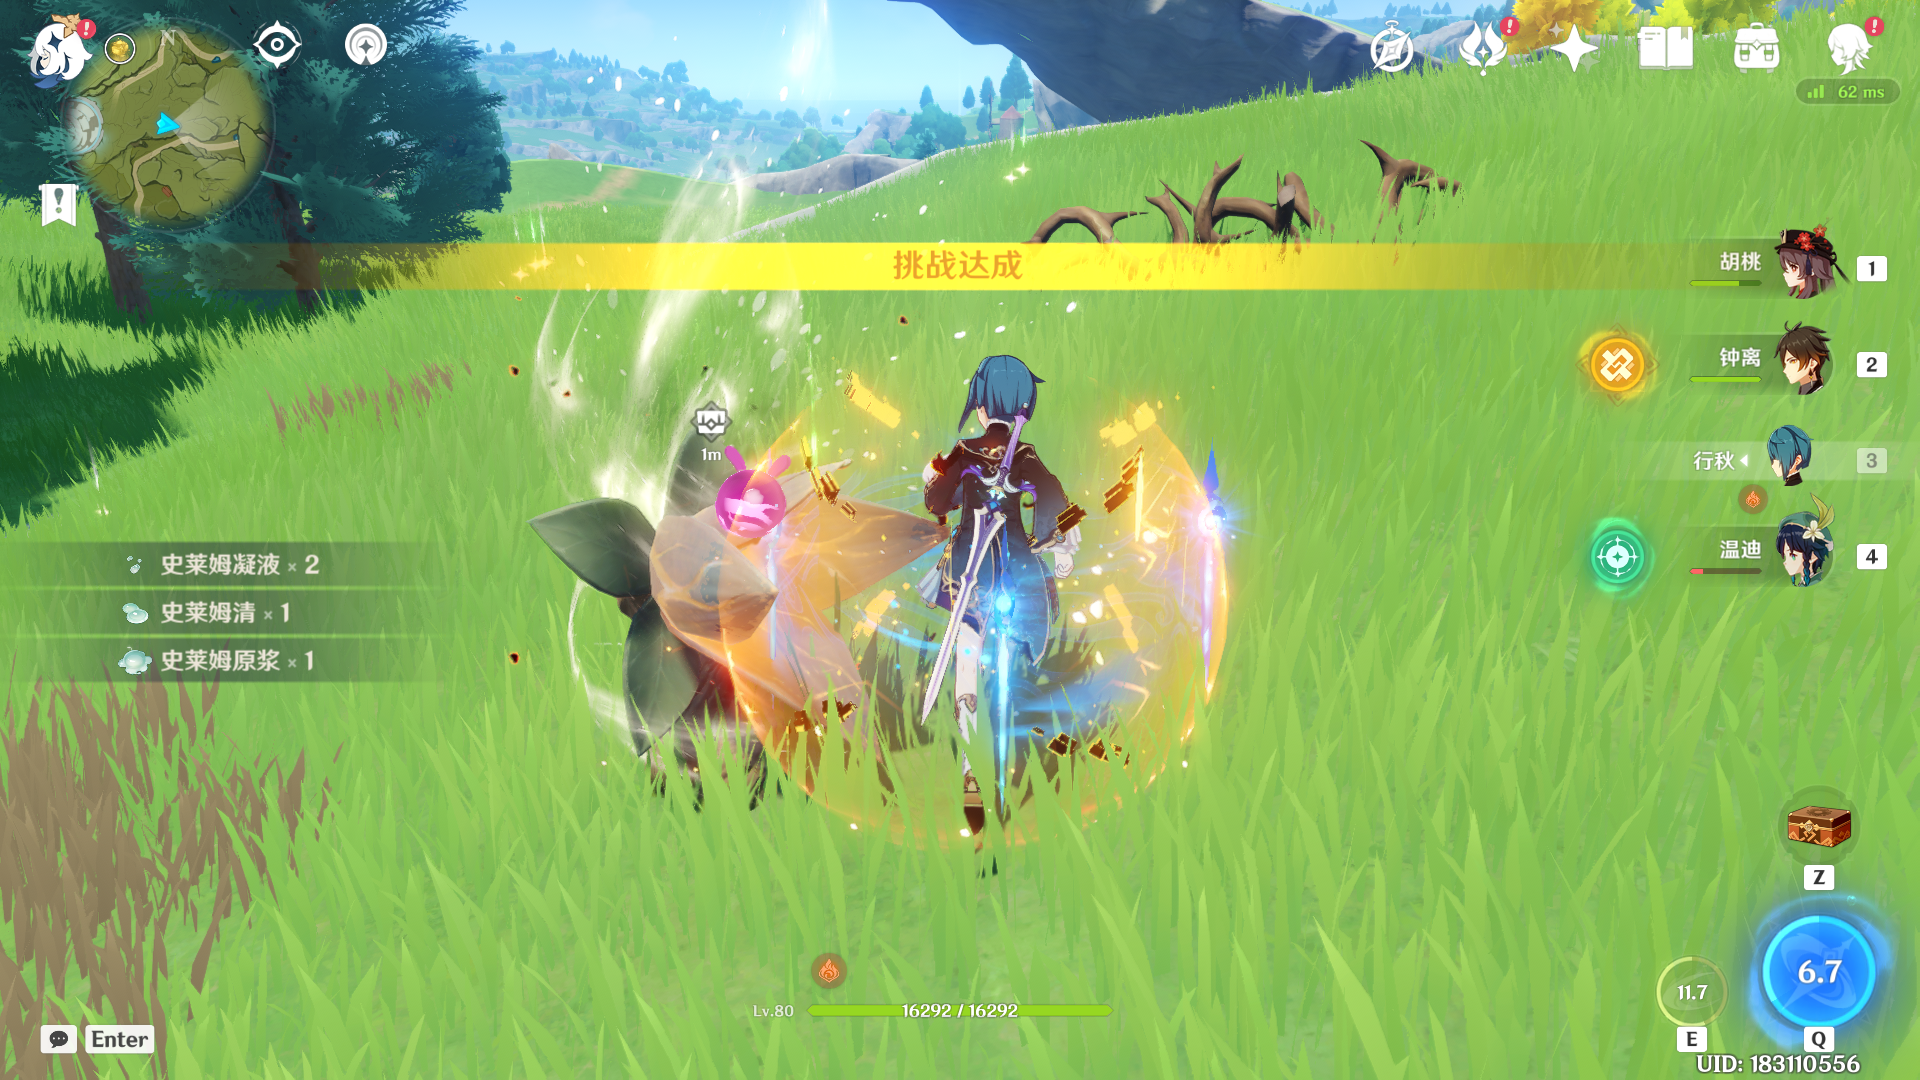character: (868, 316, 1139, 881)
